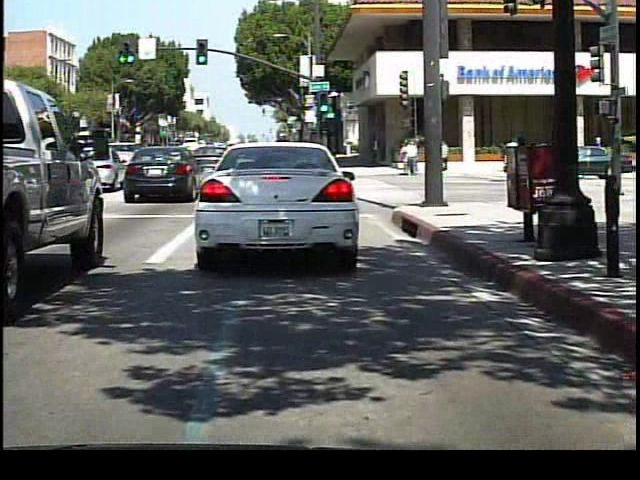person: (501, 134, 522, 175), (402, 136, 420, 179), (435, 135, 453, 172)
